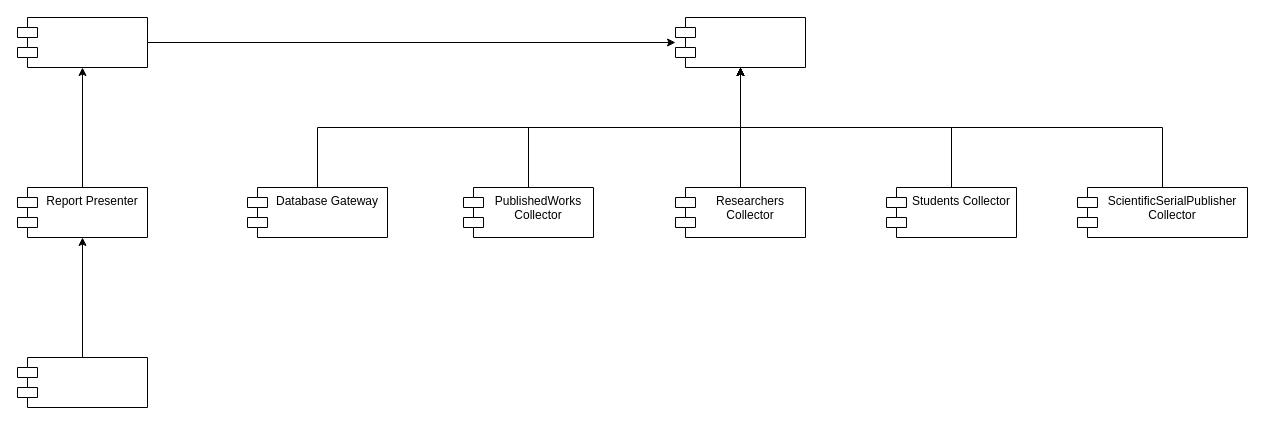
This 1265x425 diagram has some shape labels left out. The centre of each missing label's shape, as x and y in pixels:
"Interface Report Generator" goes at point (740, 42).
"Linear Report Generator" goes at point (82, 42).
"XLSX Report View" goes at point (82, 382).
